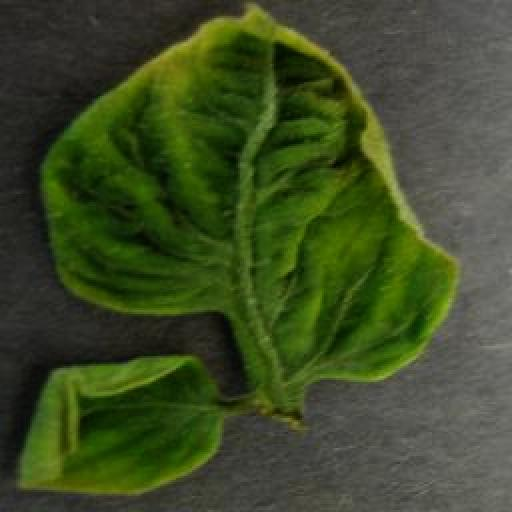disease_tomato: (35, 4, 464, 378), (14, 354, 223, 492)
